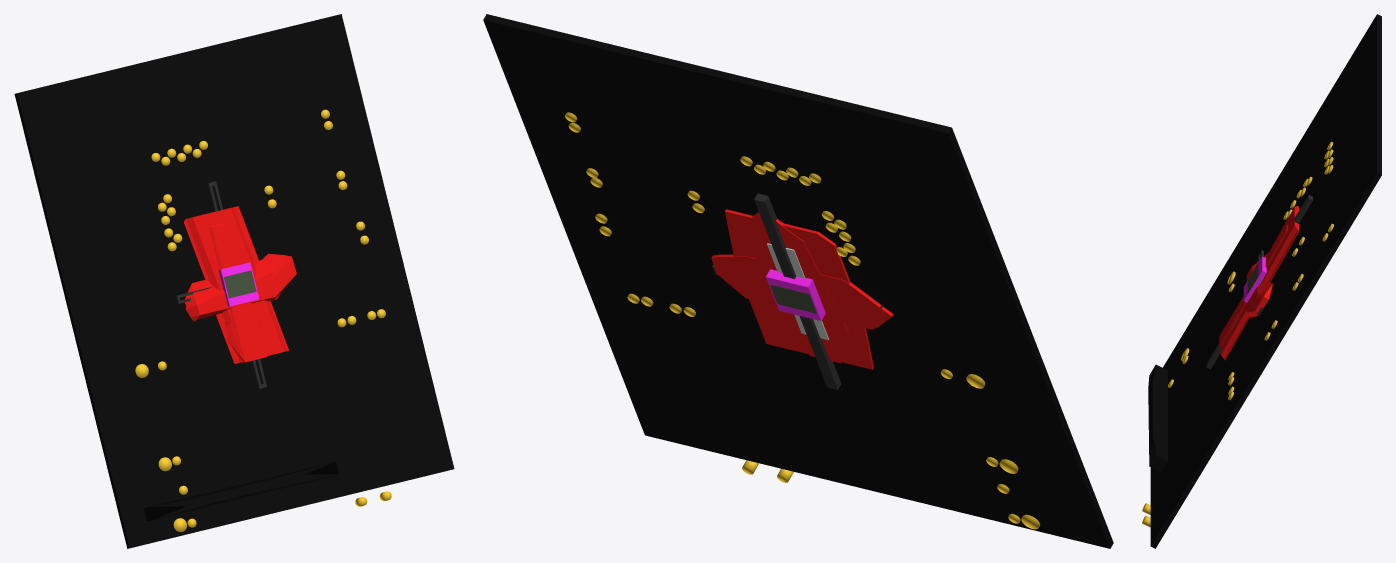
Rendered from mother_R.fbx.
The picture shows the model from 3 angles, left to right: view 1: azimuth 30°, elevation 25°; view 2: azimuth 150°, elevation 25°; view 3: azimuth 270°, elevation 25°; orthographic projection. The views are drawn at different scales.
Visible parts, largest first — view 1: Cubo.002, Cubo.003, Cilindro.027, Cubo.005, Cubo.004, Cubo.015, Cubo.019, Cubo.009; view 2: Cubo.002, Cubo.003, Cubo.004, Cilindro.027, Cubo.005, Cubo.009, Cubo.015, Cubo.019; view 3: Cubo.002, Cubo.003, Cilindro.027, Cubo.005, Cubo.004, Cubo.009, Cubo.015.
Boxes of the visible parts, x1,y1,x2,y2 form: Cubo.002: (14, 14, 454, 548); Cubo.003: (183, 206, 288, 363); Cilindro.027: (135, 109, 391, 532); Cubo.005: (184, 253, 296, 321); Cubo.004: (209, 223, 267, 362); Cubo.015: (218, 262, 259, 306); Cubo.019: (223, 270, 256, 298); Cubo.009: (206, 181, 266, 389); Cubo.002: (483, 14, 1113, 548); Cubo.003: (725, 209, 873, 369); Cubo.004: (742, 212, 848, 363); Cilindro.027: (564, 112, 1040, 529); Cubo.005: (711, 254, 893, 329); Cubo.009: (754, 193, 841, 389); Cubo.015: (766, 269, 825, 320); Cubo.019: (770, 284, 816, 313); Cubo.002: (1148, 14, 1381, 548); Cubo.003: (1220, 206, 1298, 360); Cilindro.027: (1142, 141, 1333, 527); Cubo.005: (1246, 253, 1272, 318); Cubo.004: (1219, 224, 1288, 347); Cubo.009: (1206, 195, 1312, 369); Cubo.015: (1243, 256, 1266, 302).
Size of the model in its own units: 1.15 by 1.32 by 0.7368.
